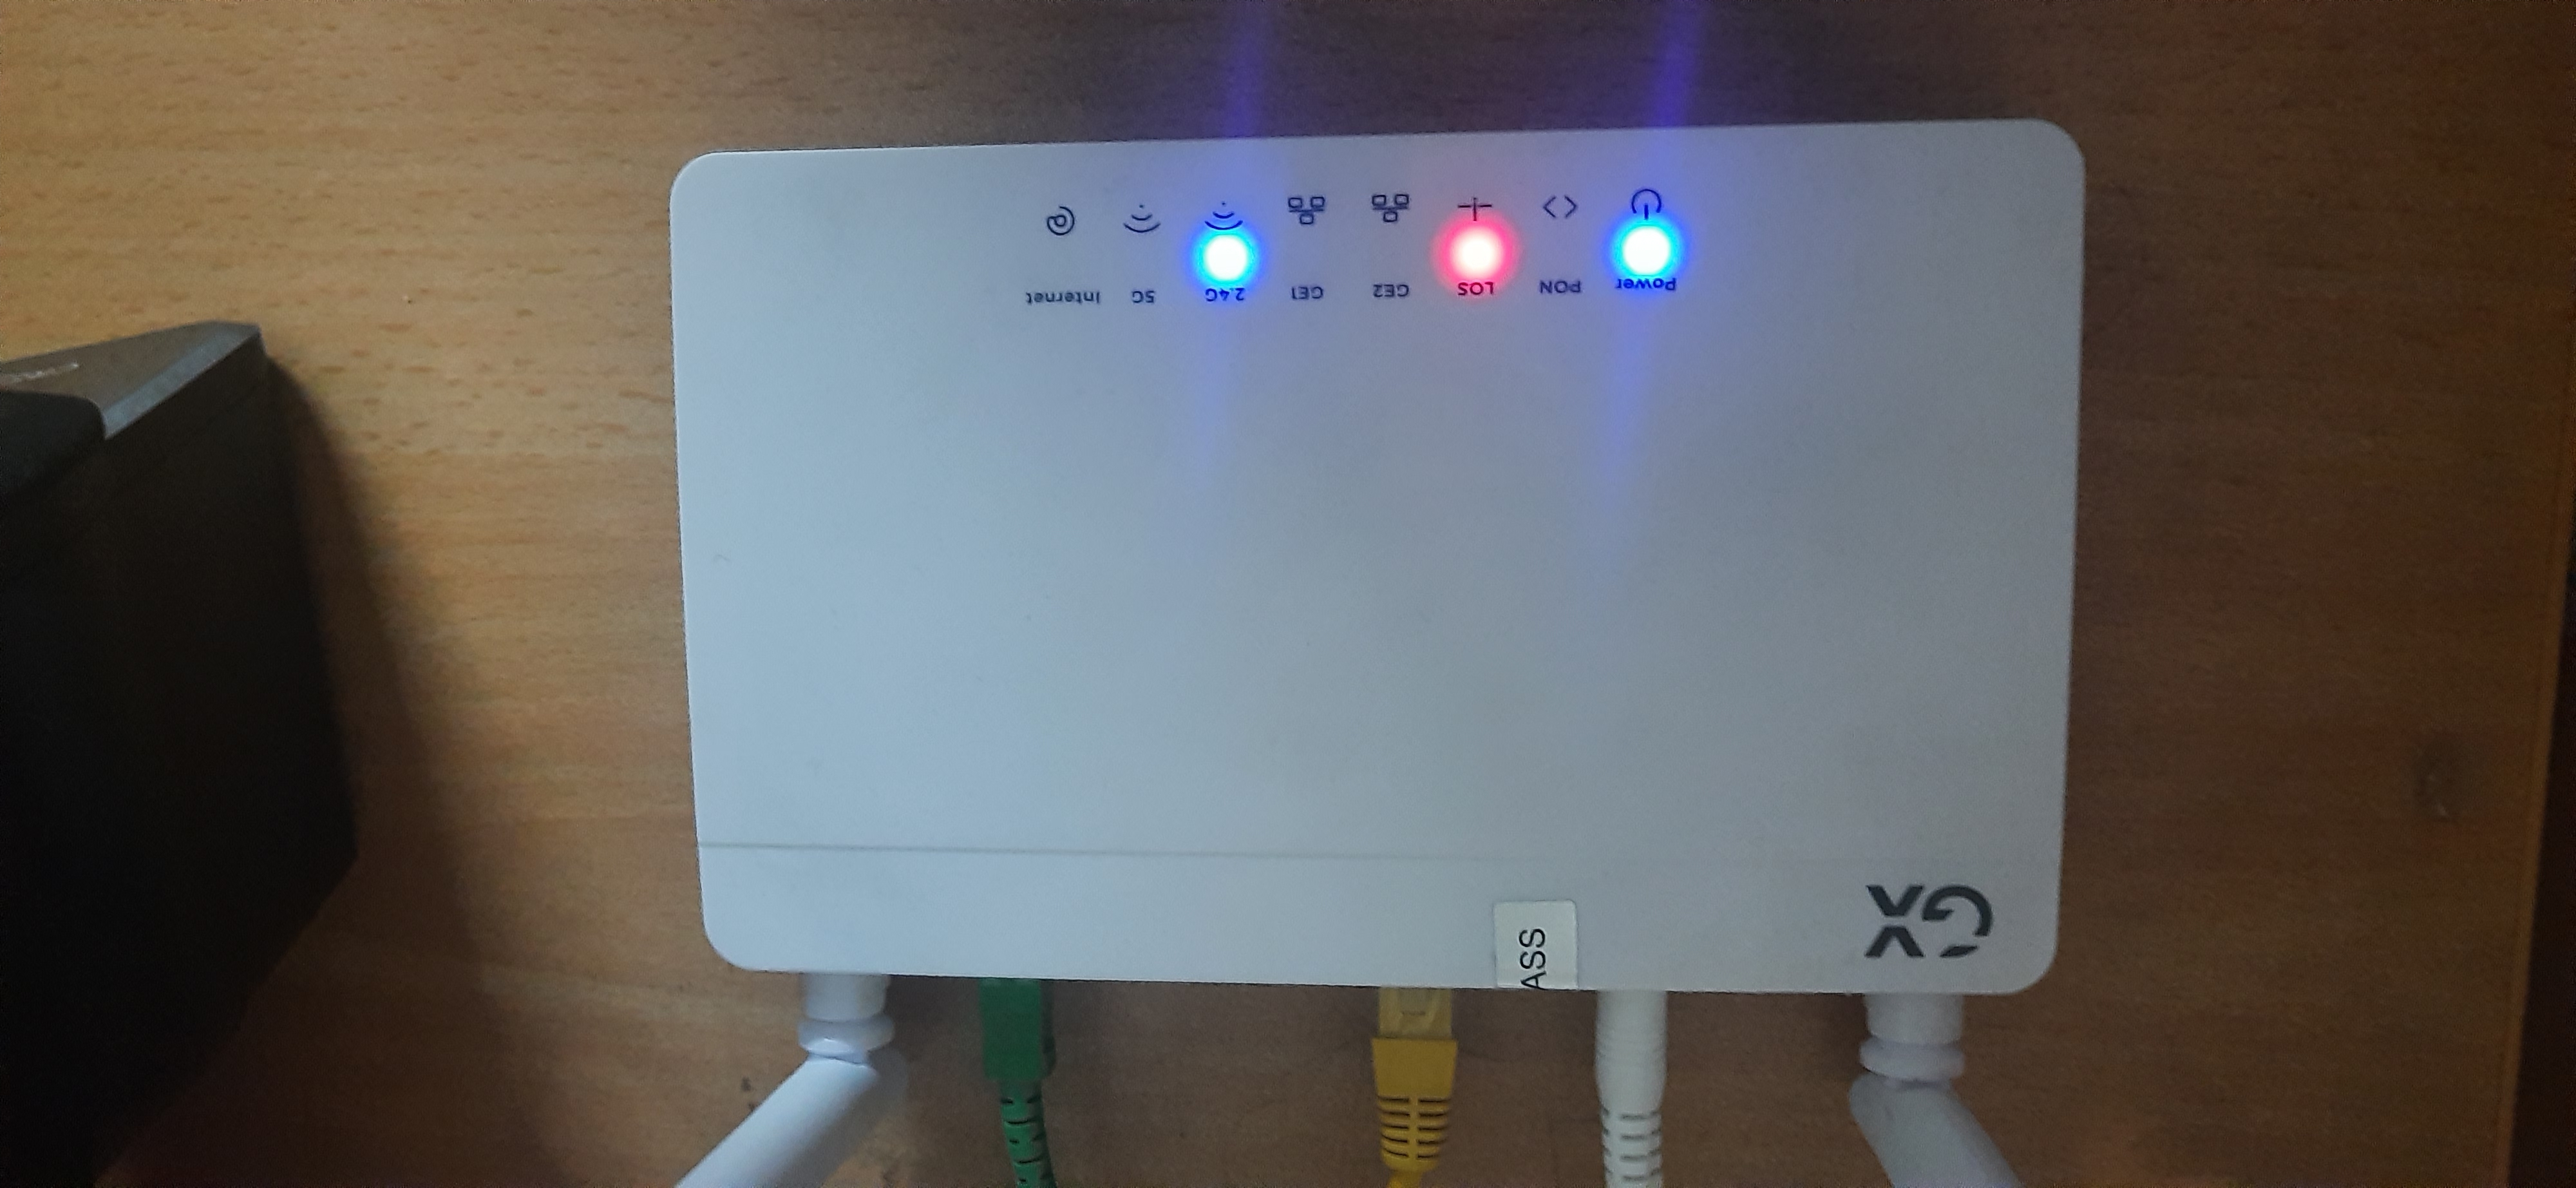LOSConnectionIssue: (1410, 151, 1538, 370)
